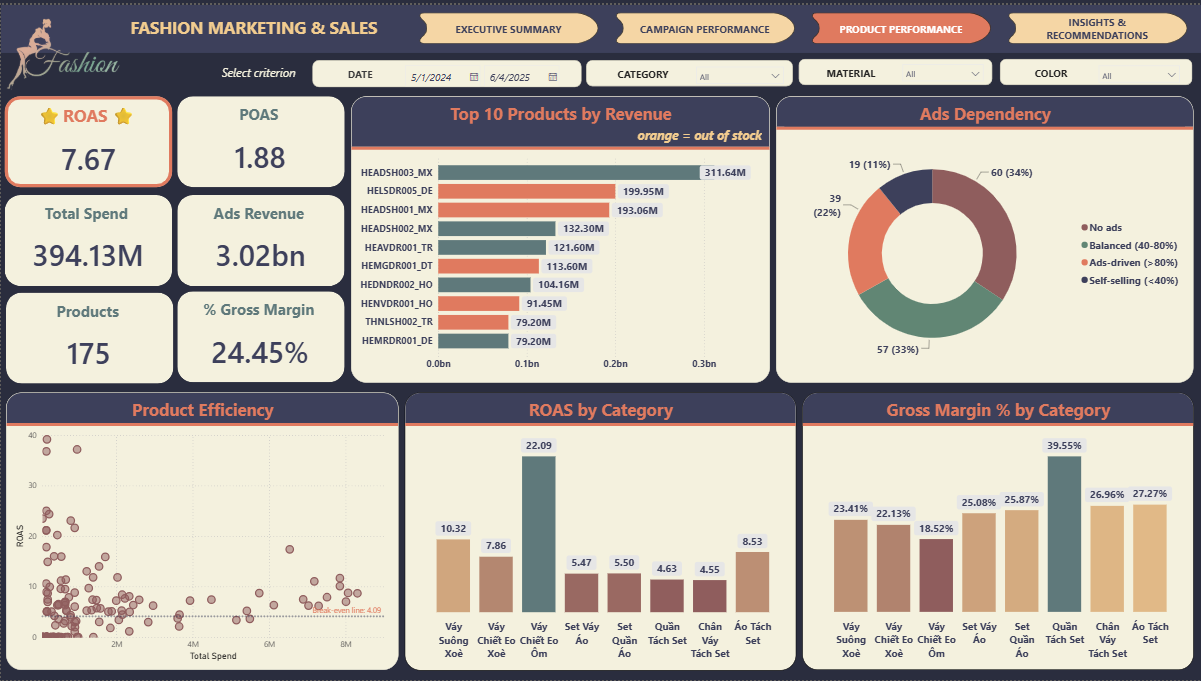

Layout of this report page (visuals, bound fields, positions):
{"tool":"powerbi","page":{"name":"PRODUCT PERFORMANCE","canvas":[1920,1080],"ordinal":2},"visuals":[{"type":"shape","box":[0,0,1920,76.7],"z":0},{"type":"shape","box":[498.1,87.1,431,43.6],"z":0,"group":"g11"},{"type":"textbox","box":[513.4,92.5,121.1,32.3],"z":1000,"group":"g11"},{"type":"clusteredBarChart","title":"Top 10 Products by Revenue","fields":{"Category":["Dim_Product.Mã sản phẩm"],"Y":["_Measures.Revenue of Ads (by Camp and SKU)"]},"box":[560,146,670,458],"z":1000},{"type":"shape","box":[282.1,146.2,267.8,145.4],"z":1000,"group":"g2"},{"type":"shape","box":[5.2,146.9,267.8,145.5],"z":1000,"group":"g3"},{"type":"shape","box":[282.1,303.9,267.8,145.9],"z":1000,"group":"g5"},{"type":"shape","box":[5.2,304.3,267.8,145.9],"z":1000,"group":"g6"},{"type":"shape","box":[281.5,458.9,267.8,145.9],"z":1000,"group":"g7"},{"type":"shape","box":[7.6,460.3,267.8,145.9],"z":1000,"group":"g8"},{"type":"slicer","fields":{"Values":["Dim_Date.Date"]},"box":[633.6,90.1,279.9,37.9],"z":2000,"group":"g11"},{"type":"clusteredColumnChart","title":"ROAS by Category","fields":{"Category":["Dim_Product.Danh mục"],"Y":["_Measures.ROAS (Return on Ads Spend)"]},"box":[647,619.8,626.1,444.5],"z":2000},{"type":"pageNavigator","box":[662,12,1244,50],"z":3000},{"type":"shape","box":[1276.7,85.6,310.3,42.2],"z":3000,"group":"g1"},{"type":"shape","box":[937,87.1,331.1,42.2],"z":3000,"group":"g11"},{"type":"textbox","box":[347.1,90,141.1,40],"z":4000},{"type":"textbox","box":[1283.1,91.8,155.9,32.7],"z":4000,"group":"g1"},{"type":"textbox","box":[943.6,92.1,166.3,32.6],"z":4000,"group":"g11"},{"type":"slicer","fields":{"Values":["Dim_Product.Chất liệu"]},"box":[1432.2,89.4,149.9,35.7],"z":5000,"group":"g1"},{"type":"slicer","fields":{"Values":["Dim_Product.Danh mục"]},"box":[1102.8,92.1,160,35.6],"z":5000,"group":"g11"},{"type":"donutChart","title":"Ads Dependency","fields":{"Category":["Dim_Product.Ads Dependency"],"Y":["_Measures.SKU Count"]},"box":[1240,145.7,668,458],"z":5000},{"type":"textbox","box":[276.9,154.9,273.2,66.6],"z":5000,"group":"g2"},{"type":"textbox","box":[0,155.6,273.2,66.6],"z":5000,"group":"g3"},{"type":"textbox","box":[276.9,312.6,273.1,66.8],"z":5000,"group":"g5"},{"type":"textbox","box":[0,313,273.2,66.8],"z":5000,"group":"g6"},{"type":"textbox","box":[276.3,467.6,273.2,66.8],"z":5000,"group":"g7"},{"type":"textbox","box":[2.4,469,273.2,66.8],"z":5000,"group":"g8"},{"type":"group","id":"g1","title":"Group 2","box":[1276.7,85.6,631.1,42.2],"z":6000,"group":"g10"},{"type":"shape","box":[1599.4,85.6,308.4,42.2],"z":6000,"group":"g1"},{"type":"group","id":"g2","title":"Group 1","box":[276.9,146.2,273.2,145.9],"z":6000,"group":"g12"},{"type":"group","id":"g3","title":"Group 1","box":[0,146.9,273.8,147.5],"z":6000,"group":"g4"},{"type":"group","id":"g4","title":"Group 3","box":[0,146.9,273.8,147.5],"z":6000,"group":"g9"},{"type":"group","id":"g5","title":"Group 1","box":[276.9,303.9,274.2,146.4],"z":6000,"group":"g14"},{"type":"group","id":"g6","title":"Group 1","box":[0,304.3,273.2,145.9],"z":6000,"group":"g15"},{"type":"group","id":"g7","title":"Group 1","box":[276.3,458.9,273.2,145.9],"z":6000,"group":"g17"},{"type":"group","id":"g8","title":"Group 1","box":[2.4,460.3,273.2,145.9],"z":6000,"group":"g16"},{"type":"scatterChart","title":"Product Efficiency","fields":{"Category":["Fact_Camp_SKU_Cost.Mã Sản phẩm"],"X":["_Measures.Total Spend"],"Y":["_Measures.ROAS (Return on Ads Spend)"]},"box":[8.3,619.8,628,444],"z":6000},{"type":"textbox","box":[1603.7,91,152.2,32],"z":7000,"group":"g10"},{"type":"group","id":"g9","title":"Group 4","box":[0,146.2,551.7,458.8],"z":7000},{"type":"group","id":"g10","title":"Group 5","box":[1276.7,85.6,631.1,42.2],"z":8000},{"type":"slicer","fields":{"Values":["Dim_Product.Màu sắc"]},"box":[1746,91.2,150,35.1],"z":8000,"group":"g1"},{"type":"group","id":"g11","title":"Group 6","box":[498.1,87.1,770,42.9],"z":9000},{"type":"group","id":"g12","title":"Group 3","box":[276.9,146.2,273.2,144.7],"z":10000,"group":"g9"},{"type":"clusteredColumnChart","title":"Gross Margin % by Category","fields":{"Category":["Dim_Product.Danh mục"],"Y":["_Measures.Gross Margin %"]},"box":[1281.4,619.8,626,444],"z":10000},{"type":"group","id":"g13","title":"Group 5","box":[0,12.8,623.6,133.9],"z":10001},{"type":"group","id":"g14","title":"Group 3","box":[276.9,303.9,274.8,145.2],"z":11000,"group":"g9"},{"type":"textbox","box":[201.8,12.8,421.9,47.7],"z":12000,"group":"g13"},{"type":"group","id":"g15","title":"Group 3","box":[0,304.3,273.8,146.1],"z":12000,"group":"g9"},{"type":"image","box":[0,12.8,201.8,133.9],"z":13000,"group":"g13"},{"type":"group","id":"g16","title":"Group 3","box":[2.4,460.3,272.5,144.7],"z":13000,"group":"g9"},{"type":"group","id":"g17","title":"Group 3","box":[276.3,458.9,273.8,146.1],"z":14000,"group":"g9"},{"type":"cardVisual","fields":{"Data":["_Measures.POAS"]},"box":[283,187.6,265.7,104.5],"z":16000,"group":"g2"},{"type":"cardVisual","fields":{"Data":["_Measures.ROAS (Return on Ads Spend)"]},"box":[7.7,194.2,264.6,99.5],"z":16000,"group":"g3"},{"type":"cardVisual","fields":{"Data":["_Measures.Revenue of Ads (by Camp and SKU)"]},"box":[283.2,345.5,267.8,104.8],"z":16000,"group":"g5"},{"type":"cardVisual","fields":{"Data":["_Measures.Total Spend"]},"box":[5.2,345.9,267.9,103.5],"z":16000,"group":"g6"},{"type":"cardVisual","fields":{"Data":["_Measures.Gross Margin %"]},"box":[282.9,501.1,265.7,103.5],"z":16000,"group":"g7"},{"type":"cardVisual","fields":{"Data":["_Measures.SKU Count"]},"box":[9,502.5,265.7,103.5],"z":16000,"group":"g8"}]}

Visuals, with their boxes in screenshot pixels (x1, y1, x2, y2), scaled from the page's 1920x1080 canvas onto the 1201x681 screenshot:
shape: 0/0/1200/48
shape: 312/55/581/82
textbox: 321/58/397/79
"Top 10 Products by Revenue" clusteredBarChart: 350/92/769/381
shape: 176/92/344/184
shape: 3/93/171/184
shape: 176/192/344/284
shape: 3/192/171/284
shape: 176/289/344/381
shape: 5/290/172/382
slicer - Dim_Date.Date: 396/57/571/81
"ROAS by Category" clusteredColumnChart: 405/391/796/671
pageNavigator: 414/8/1192/39
shape: 799/54/993/81
shape: 586/55/793/82
textbox: 217/57/305/82
textbox: 803/58/900/79
textbox: 590/58/694/79
slicer - Dim_Product.Chất liệu: 896/56/990/79
slicer - Dim_Product.Danh mục: 690/58/790/81
"Ads Dependency" donutChart: 776/92/1193/381
textbox: 173/98/344/140
textbox: 0/98/171/140
textbox: 173/197/344/239
textbox: 0/197/171/239
textbox: 173/295/344/337
textbox: 2/296/172/338
"Group 2" group: 799/54/1193/81
shape: 1000/54/1193/81
"Group 1" group: 173/92/344/184
"Group 1" group: 0/93/171/186
"Group 3" group: 0/93/171/186
"Group 1" group: 173/192/345/284
"Group 1" group: 0/192/171/284
"Group 1" group: 173/289/344/381
"Group 1" group: 2/290/172/382
"Product Efficiency" scatterChart: 5/391/398/671
textbox: 1003/57/1098/78
"Group 4" group: 0/92/345/381
"Group 5" group: 799/54/1193/81
slicer - Dim_Product.Màu sắc: 1092/58/1186/80
"Group 6" group: 312/55/793/82
"Group 3" group: 173/92/344/183
"Gross Margin % by Category" clusteredColumnChart: 802/391/1193/671
"Group 5" group: 0/8/390/93
"Group 3" group: 173/192/345/283
textbox: 126/8/390/38
"Group 3" group: 0/192/171/284
image: 0/8/126/93
"Group 3" group: 2/290/172/381
"Group 3" group: 173/289/344/381
cardVisual - _Measures.POAS: 177/118/343/184
cardVisual - _Measures.ROAS (Return on Ads Spend): 5/122/170/185
cardVisual - _Measures.Revenue of Ads (by Camp and SKU): 177/218/345/284
cardVisual - _Measures.Total Spend: 3/218/171/283
cardVisual - _Measures.Gross Margin %: 177/316/343/381
cardVisual - _Measures.SKU Count: 6/317/172/382
